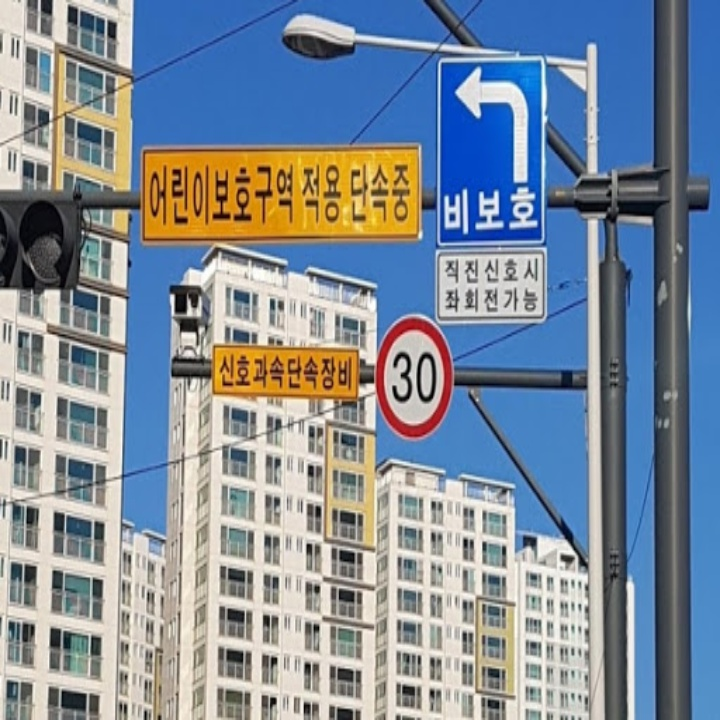left: (447, 65, 538, 183)
